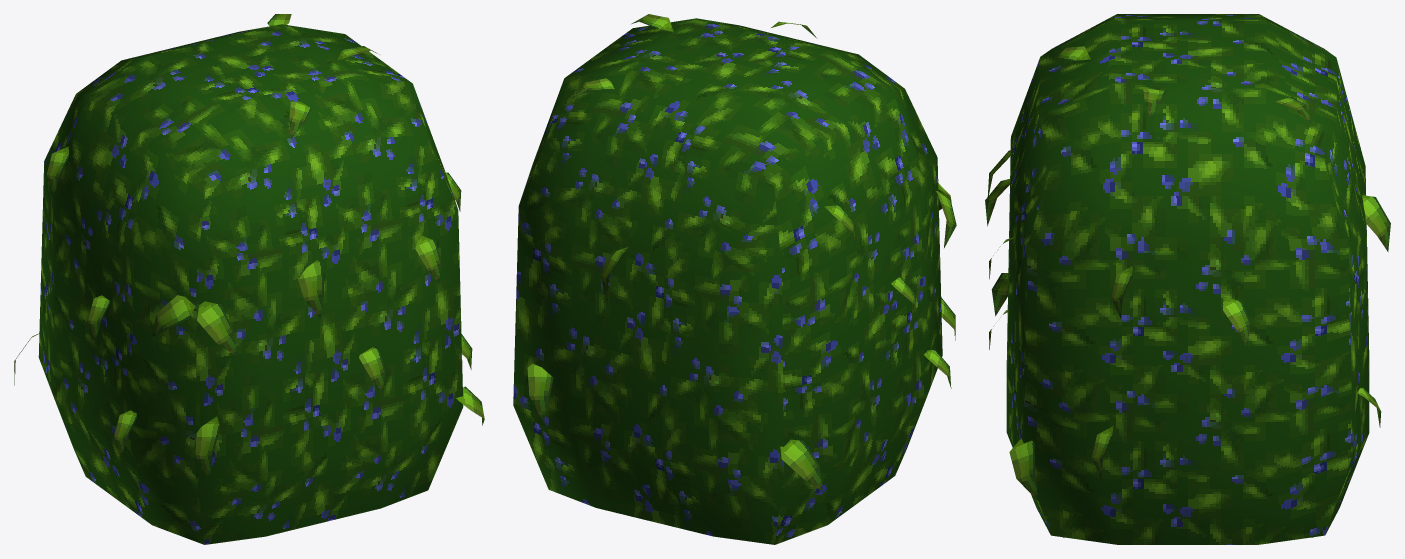
Rendered from INST_HTOWN_BERRYBUSH.fbx.
3 views of the same model, side by side, from view 1: azimuth 30°, elevation 25°; view 2: azimuth 150°, elevation 25°; view 3: azimuth 270°, elevation 25° (orthographic). The views are drawn at different scales.
Visible parts, largest first — view 1: INST_HTOWN_BERRYBUSH; view 2: INST_HTOWN_BERRYBUSH; view 3: INST_HTOWN_BERRYBUSH.
Boxes of the visible parts, x1,y1,x2,y2 form: INST_HTOWN_BERRYBUSH: [14, 14, 484, 544]; INST_HTOWN_BERRYBUSH: [513, 14, 956, 544]; INST_HTOWN_BERRYBUSH: [985, 14, 1390, 544].
Size of the model in its own units: 12906 by 14359 by 12088.
3 materials, 3 textured.
